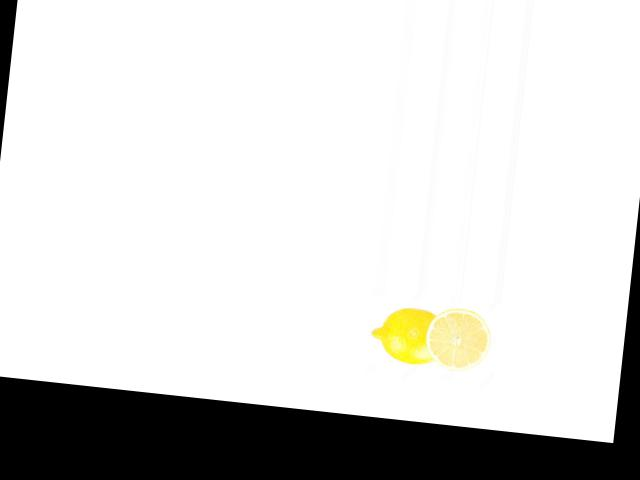lemon: (368, 295, 449, 370)
